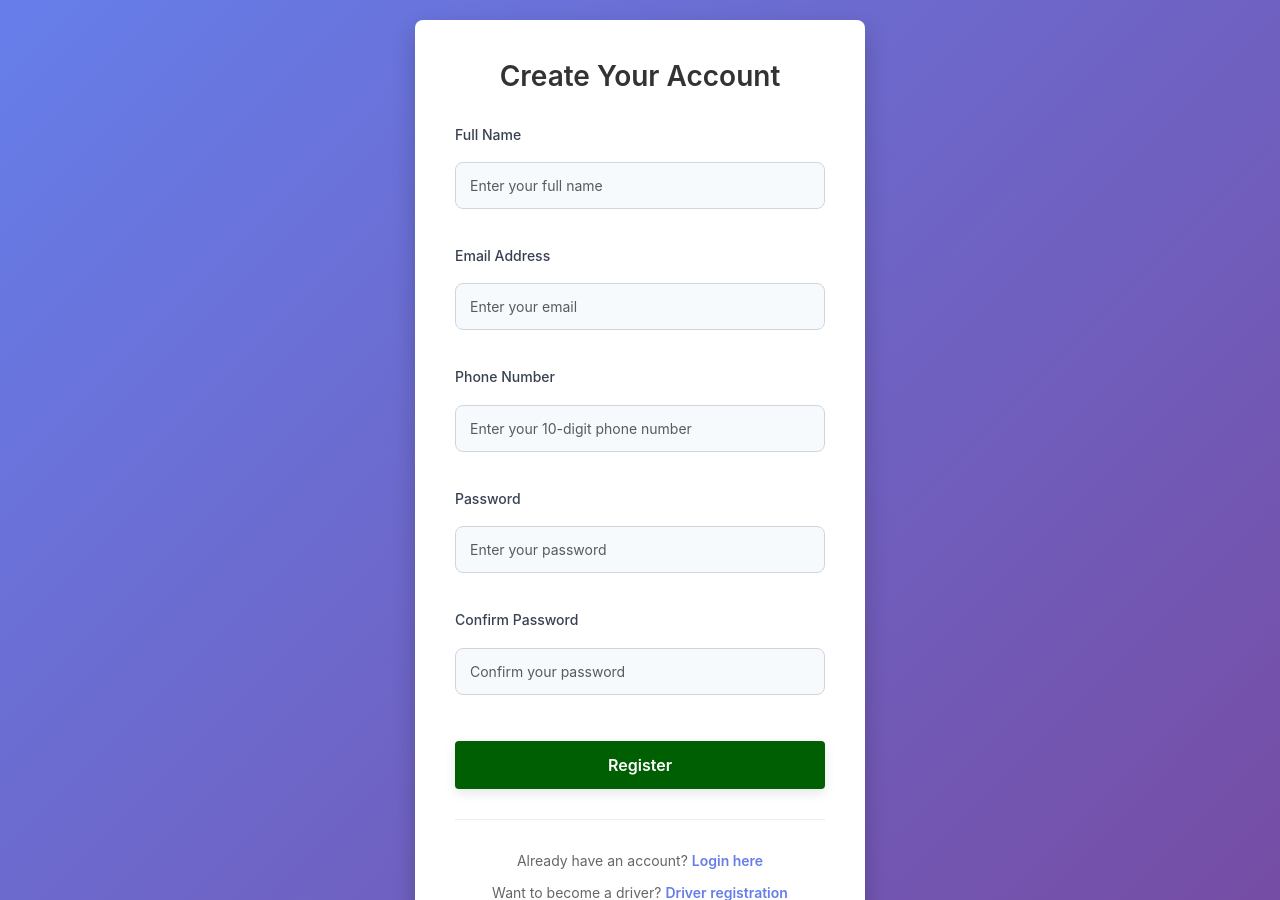
Test case: Register Component › validates passwords match
Step 1. Type "Test User" into the field labelled "Full Name" → (640, 186), box [455,162,825,209]
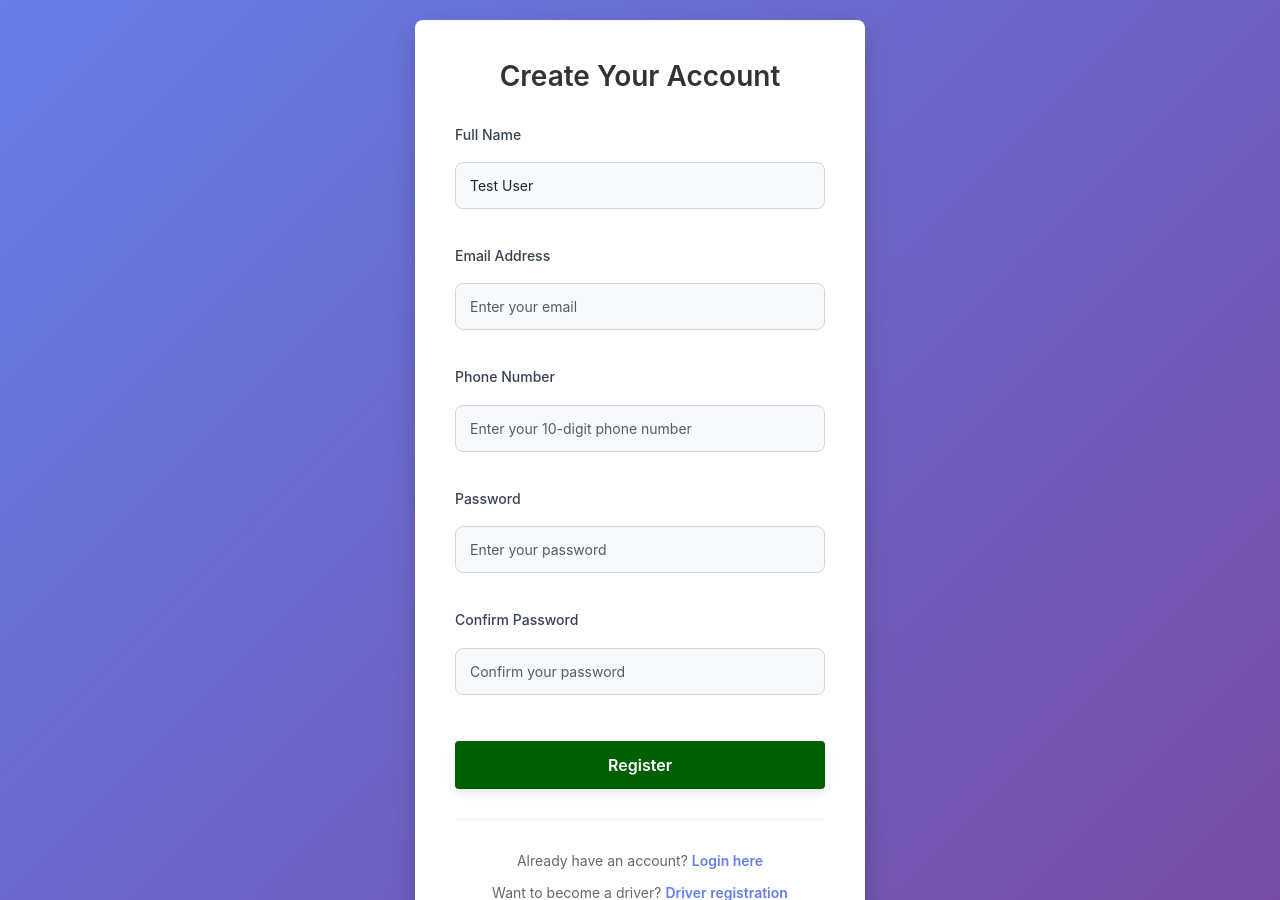
Step 2. Type "test@test.com" into the field labelled "Email Address" → (640, 307), box [455,283,825,330]
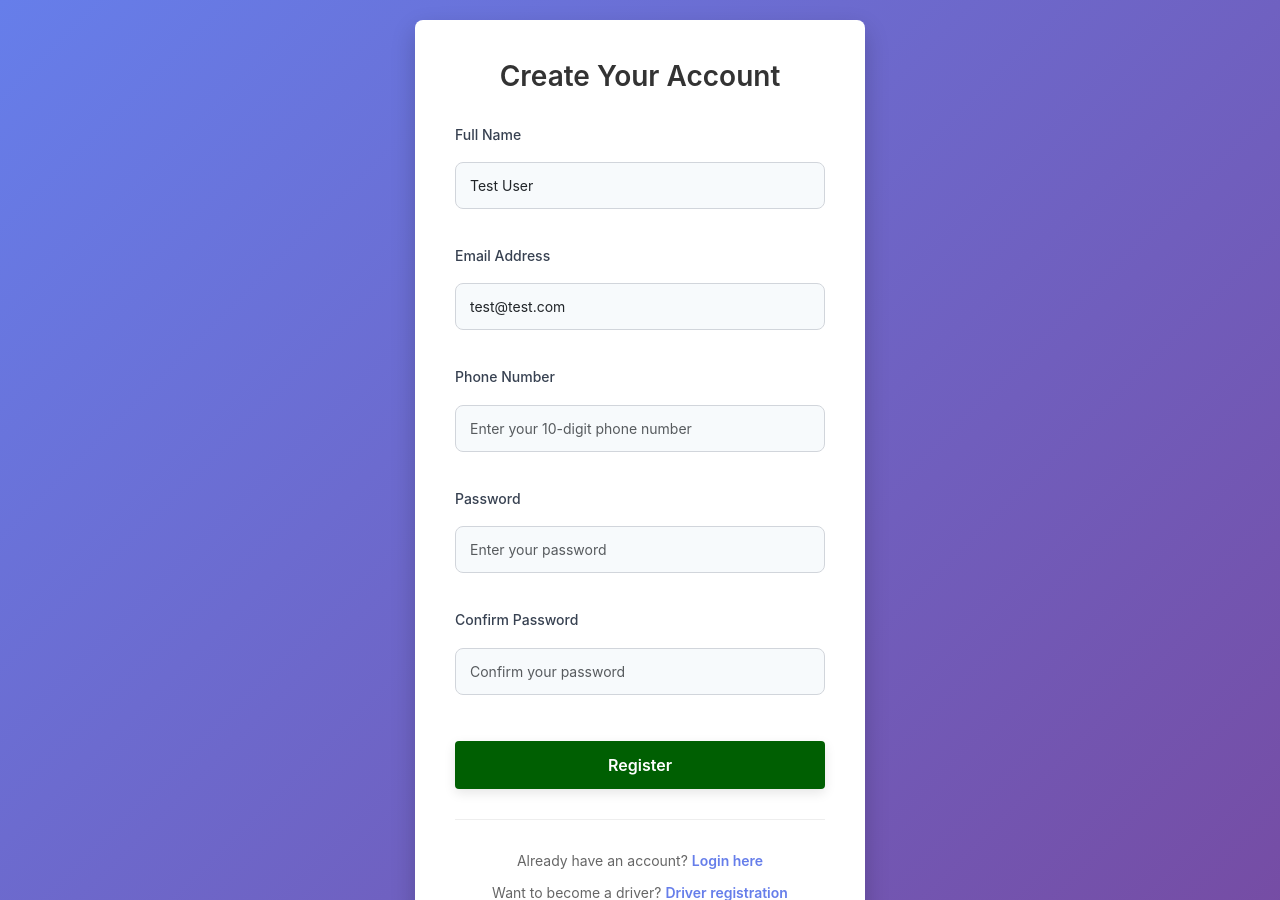
Step 3. Type "1234567890" into the field labelled "Phone Number" → (640, 428), box [455,405,825,452]
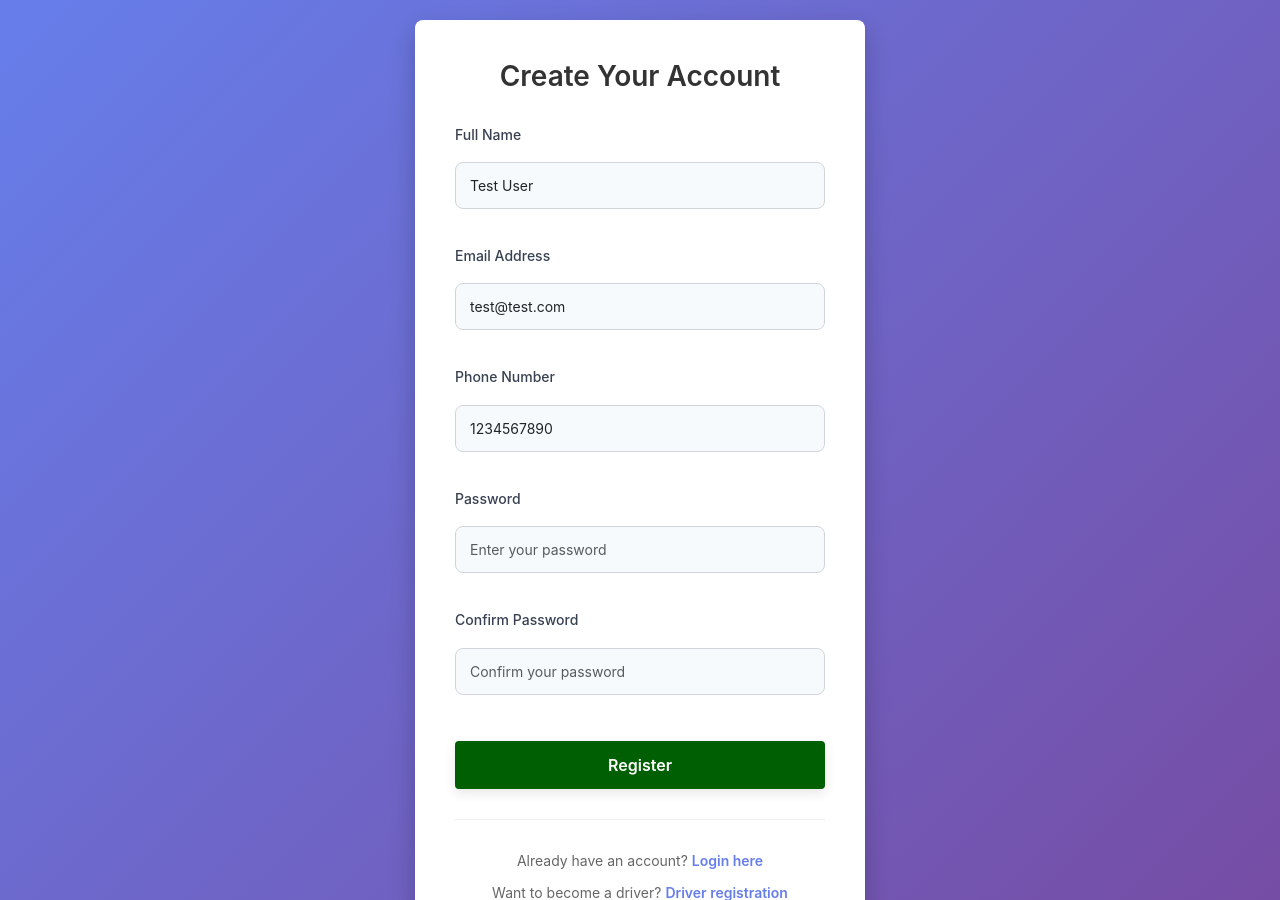
Step 4. Type "password123" into the password field labelled "Password" → (640, 550), box [455,526,825,573]
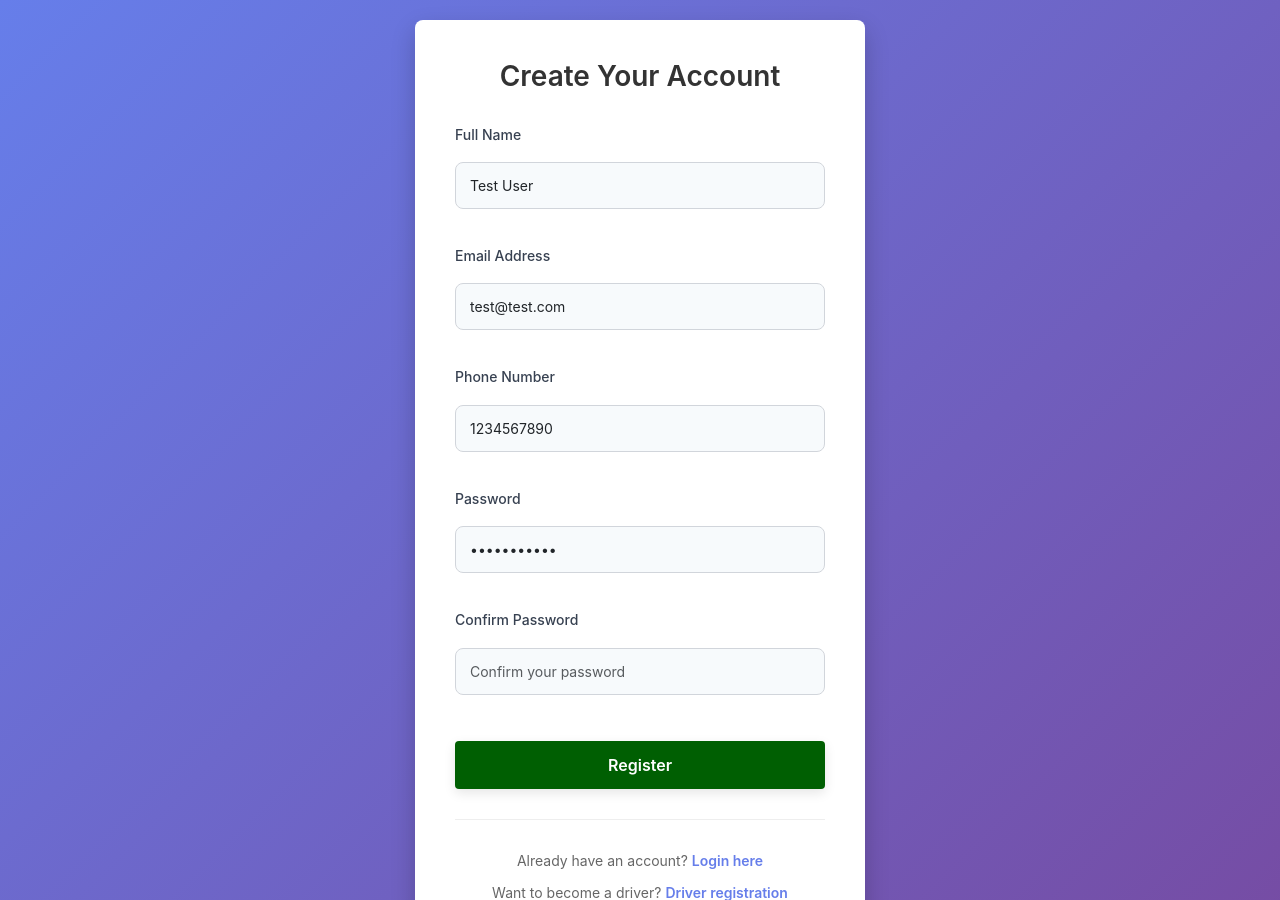
Step 5. Type "different" into the password field labelled "Confirm Password" → (640, 671), box [455,648,825,694]
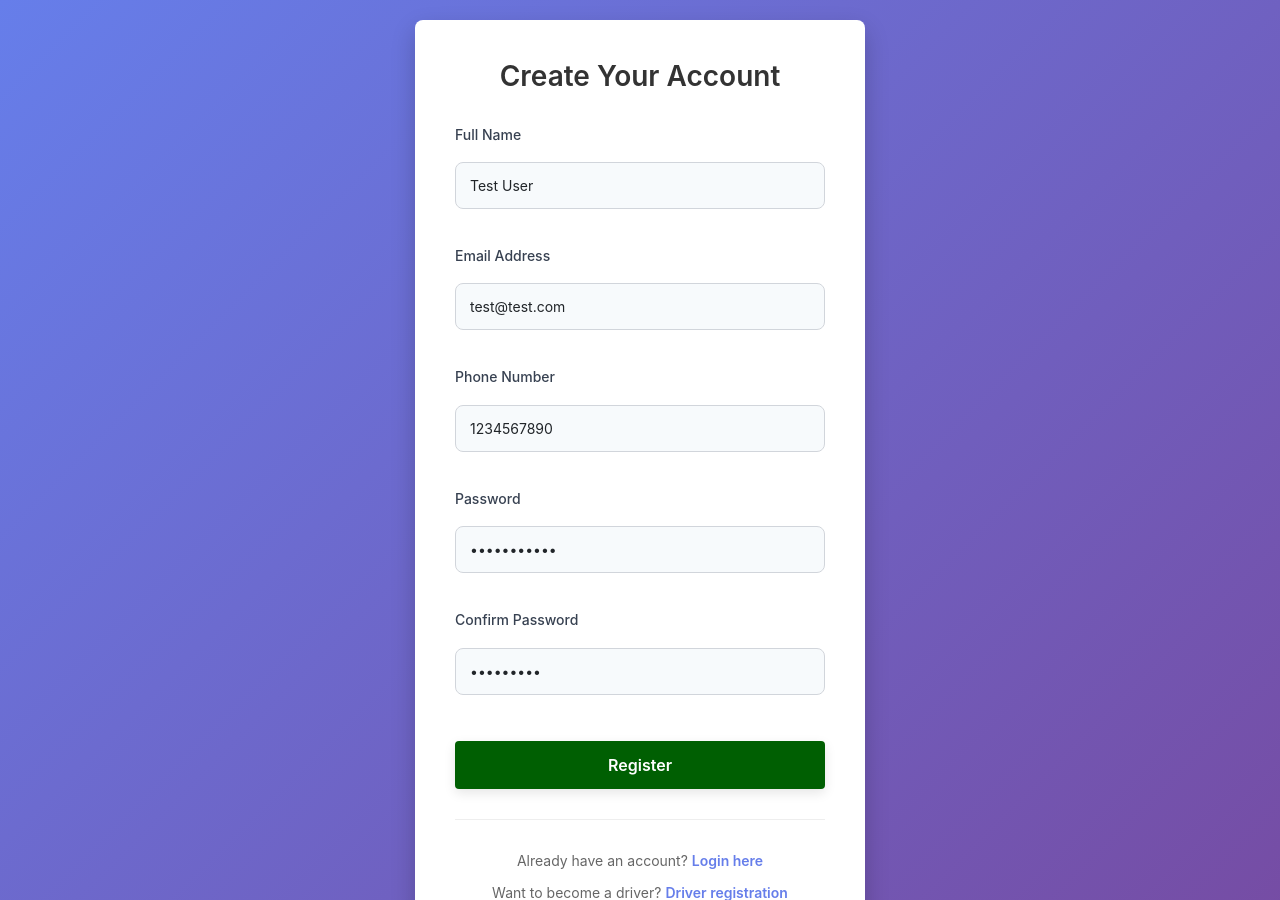
Step 6. Click the button "Register" → (640, 764), box [455,740,825,788]
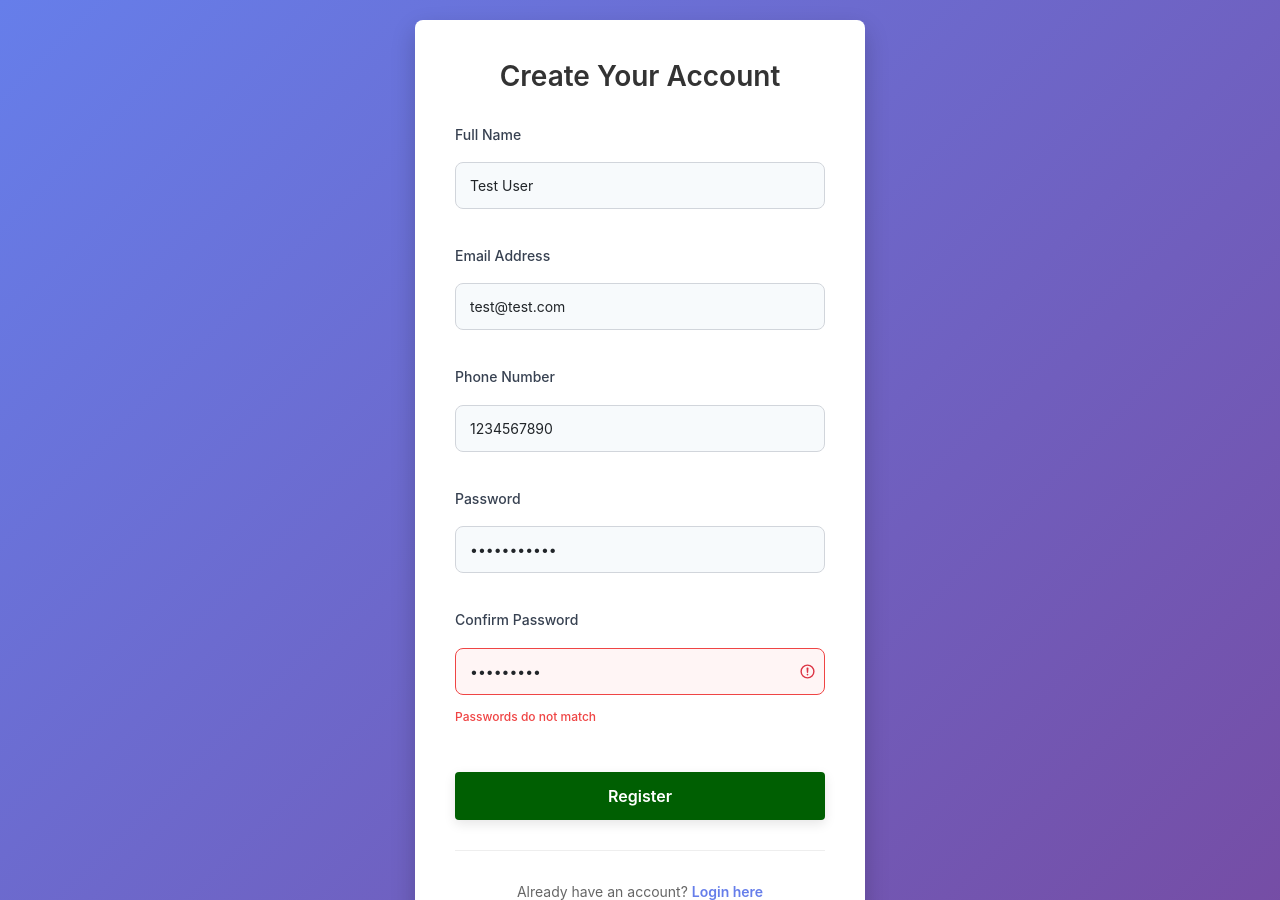
Expected: the text "Passwords do not match" is shown, [455,708,596,724]
